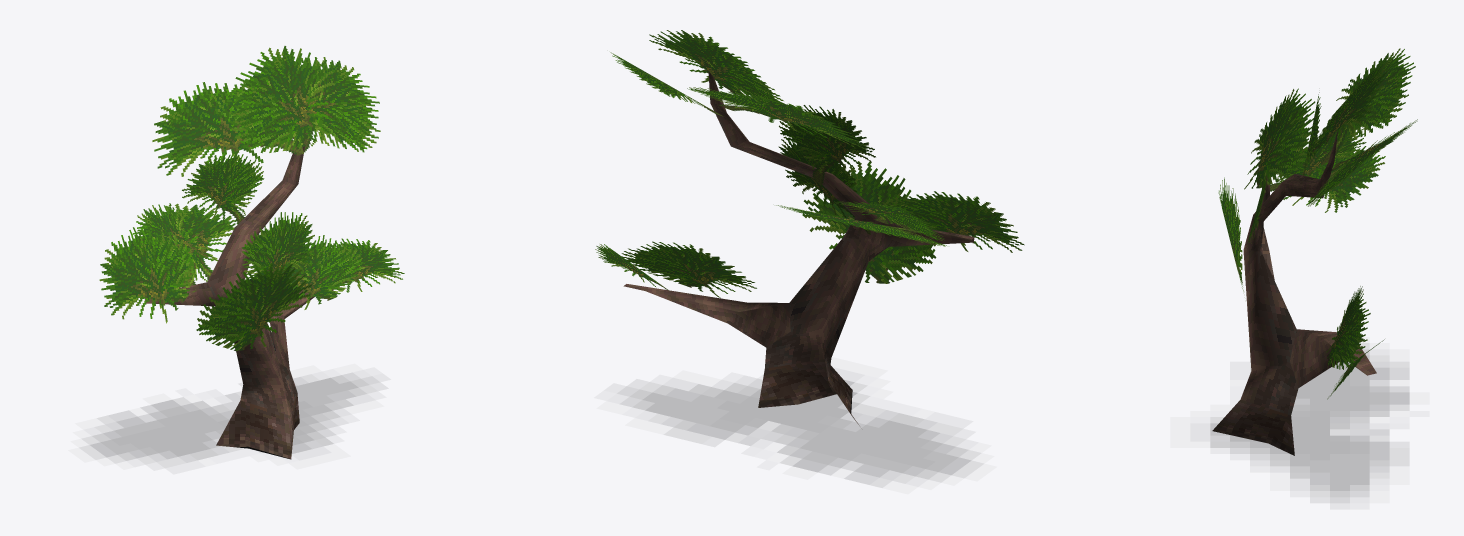
The model's file is Japanese Tree 2.obj.
3 renders of one model, left to right at view 1: azimuth 30°, elevation 25°; view 2: azimuth 150°, elevation 25°; view 3: azimuth 270°, elevation 25°, orthographic. The views are drawn at different scales.
Visible parts, largest first — view 1: polygon2.037, polygon0.058, polygon3.011, polygon1.058; view 2: polygon2.037, polygon0.058, polygon3.011, polygon1.058; view 3: polygon2.037, polygon0.058, polygon3.011, polygon1.058.
Boxes of the visible parts, x1=… form: polygon2.037: x1=99, y1=46, x2=404, y2=351; polygon0.058: x1=90, y1=375, x2=368, y2=460; polygon3.011: x1=144, y1=146, x2=314, y2=415; polygon1.058: x1=216, y1=393, x2=299, y2=459; polygon2.037: x1=595, y1=30, x2=1024, y2=297; polygon0.058: x1=630, y1=380, x2=970, y2=478; polygon3.011: x1=623, y1=71, x2=974, y2=380; polygon1.058: x1=758, y1=359, x2=859, y2=425; polygon2.037: x1=1218, y1=48, x2=1417, y2=399; polygon0.058: x1=1210, y1=349, x2=1409, y2=497; polygon3.011: x1=1240, y1=132, x2=1376, y2=415; polygon1.058: x1=1212, y1=399, x2=1294, y2=455.
Bounding box in the file's own units: 9 × 9.19 × 6.15.
Materials: 4 (4 with a texture image).
